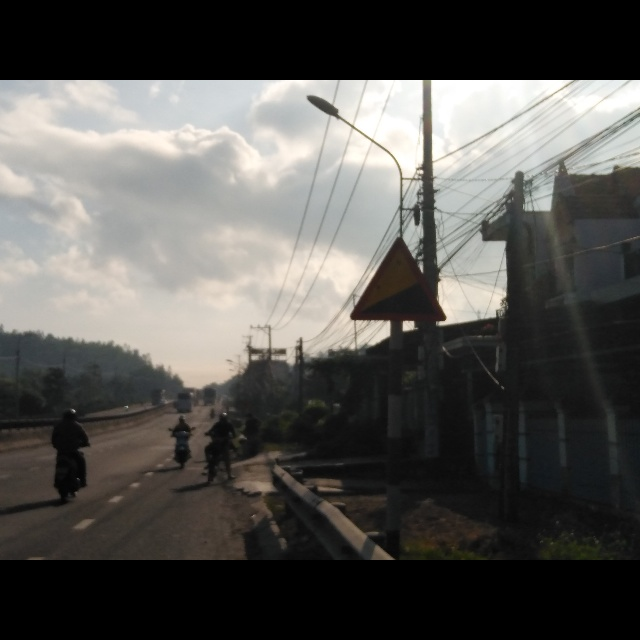Dốc lên nguy hiểm: (347, 232, 446, 322)
